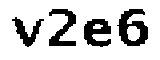2: (47, 7, 78, 51)
6: (117, 8, 150, 48)
e: (84, 17, 113, 49)
v: (10, 16, 45, 50)
